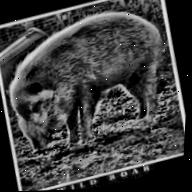boar: (0, 0, 192, 169)
